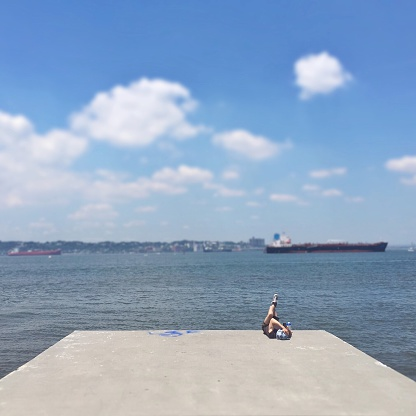deitado: (260, 292, 286, 330)
